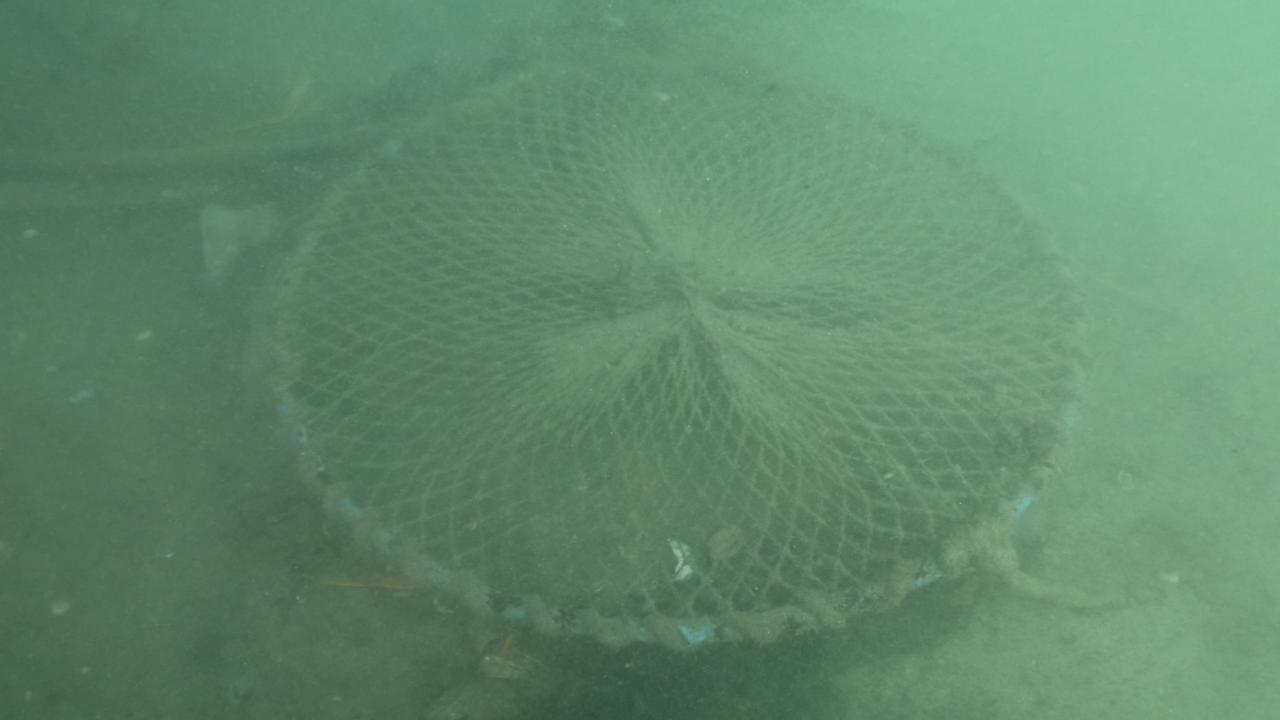bundle of ropes: (976, 518, 1155, 614)
circular fish trap: (276, 50, 1096, 648)
